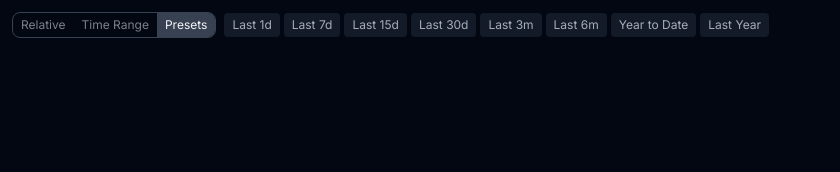
Scenario: HuntTimeFilter › Presets: "Year to Date" resolves from Jan 1 of the current year
The image size is (840, 172).
Click the button "Year to Date": (654, 25) [611,13,696,37]
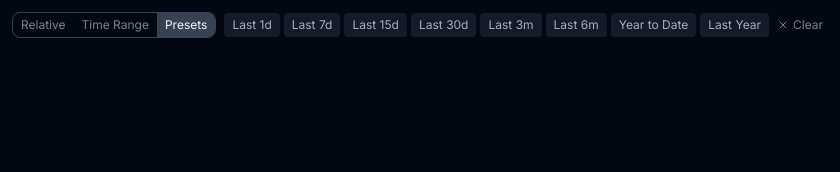
Now the button "Clear" is shown, box [777,17,823,33]
